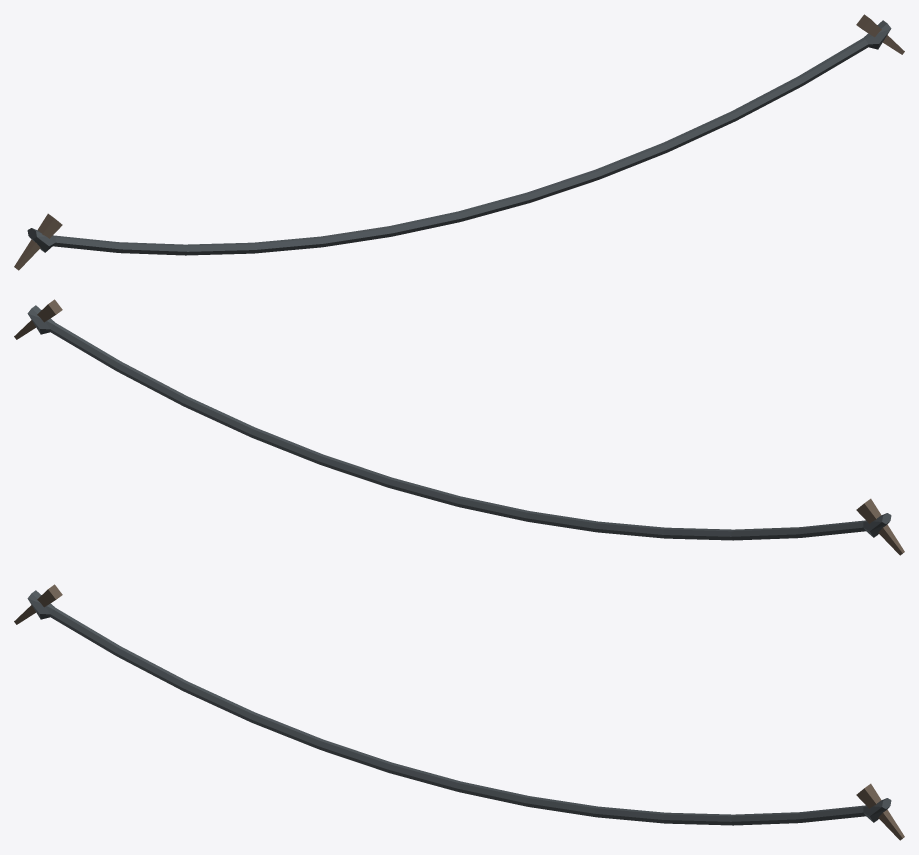
File: SM_Prop_Washingline_01.fbx
The picture shows the model from 3 angles, top to bottom: view 1: azimuth 30°, elevation 25°; view 2: azimuth 150°, elevation 25°; view 3: azimuth 330°, elevation 25°; orthographic projection.
Parts seen in each view (by area): view 1: SM_Prop_Washingline_01; view 2: SM_Prop_Washingline_01; view 3: SM_Prop_Washingline_01.
Boxes of the visible parts, left/top/right/bottom form: SM_Prop_Washingline_01: left=14, top=14, right=904, bottom=270; SM_Prop_Washingline_01: left=14, top=299, right=904, bottom=555; SM_Prop_Washingline_01: left=14, top=584, right=904, bottom=840.
Bounding box in the file's own units: 0.0555 × 0.00626 × 0.00102.
1 material, 1 textured.
